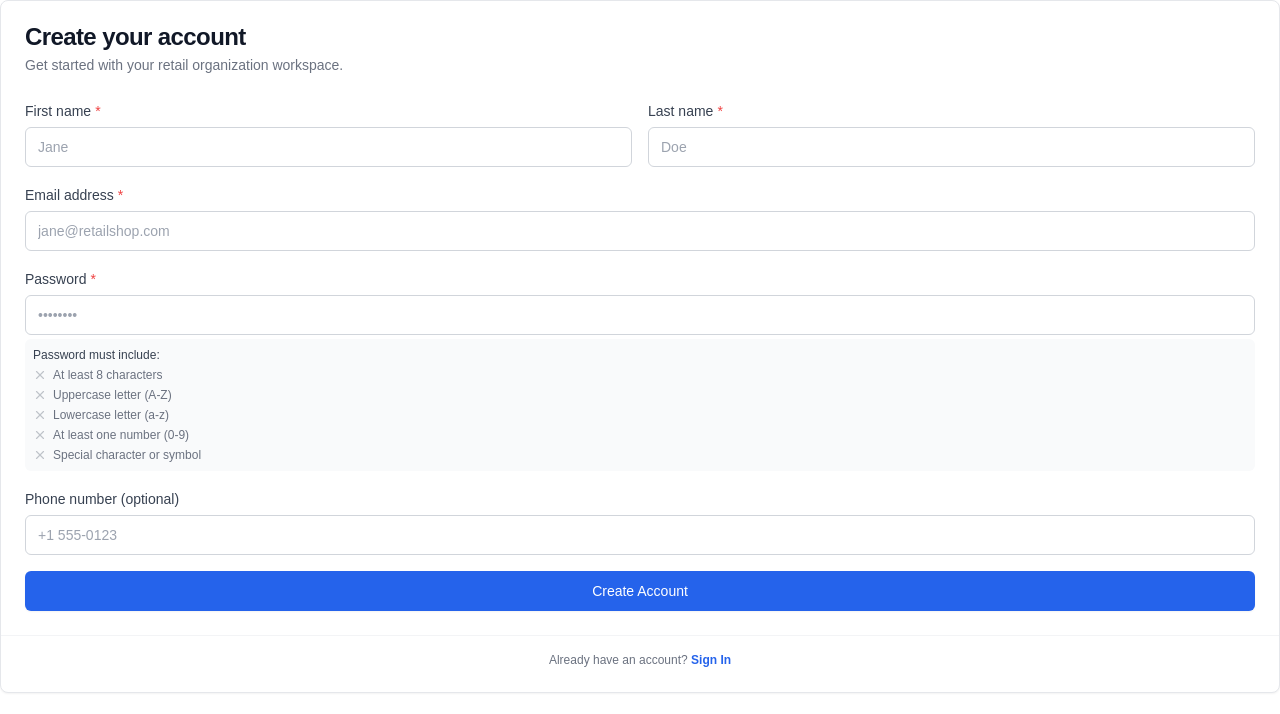
Test: T022–T024: Authentication Form Components › SignUpForm (T022) › displays validation error when submitting empty form
Click the button "Create Account" at (640, 591), box top-left (25, 571), bottom-right (1255, 611)
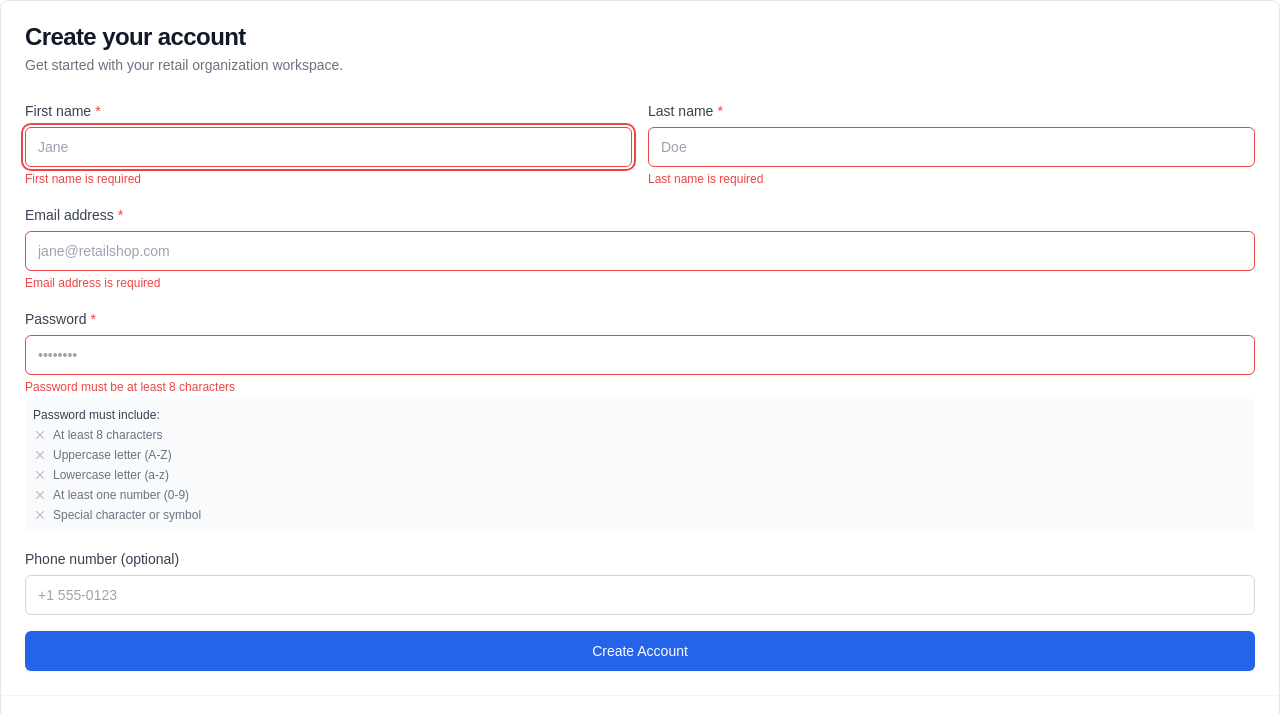
Now the text "First name is required" is shown, box top-left (25, 172), bottom-right (141, 186)
Now the text "Last name is required" is shown, box top-left (648, 172), bottom-right (763, 186)
Now the text "Email address is required" is shown, box top-left (25, 276), bottom-right (160, 290)
